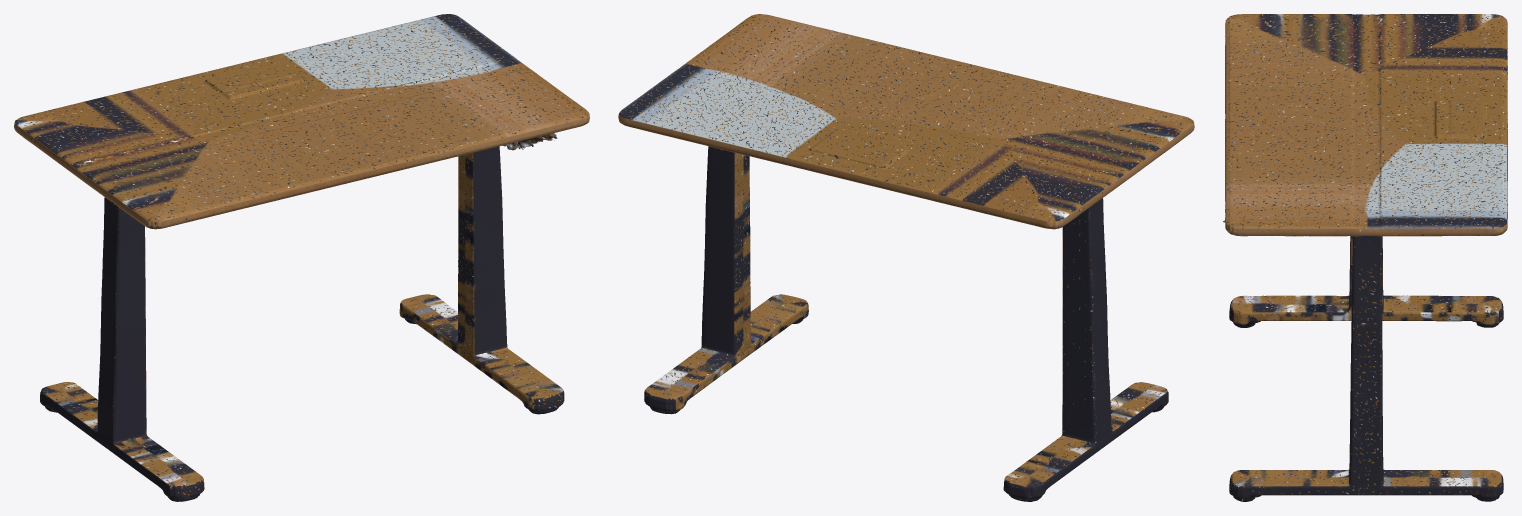
Rendered from claiks-electric-standing-adjustable-height.glb.
The picture shows the model from 3 angles, left to right: view 1: azimuth 30°, elevation 25°; view 2: azimuth 150°, elevation 25°; view 3: azimuth 270°, elevation 25°; orthographic projection.
Visible parts, largest first — view 1: world; view 2: world; view 3: world.
Part boxes in pixels (bbox=[...]): world: bbox=[14, 14, 589, 501]; world: bbox=[618, 14, 1194, 501]; world: bbox=[1223, 14, 1507, 501].
Bounding box in the file's own units: 1.99 × 1.26 × 1.12.
1 material, 1 textured.
